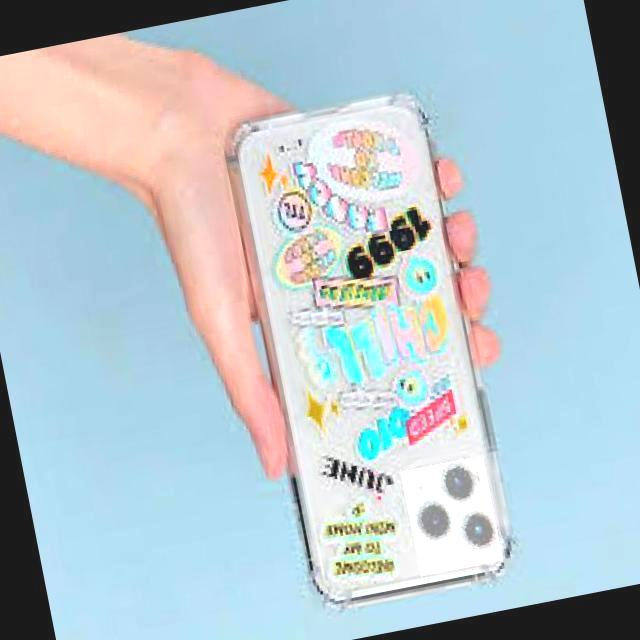lens: (407, 460, 498, 558)
phone: (222, 94, 518, 608)
